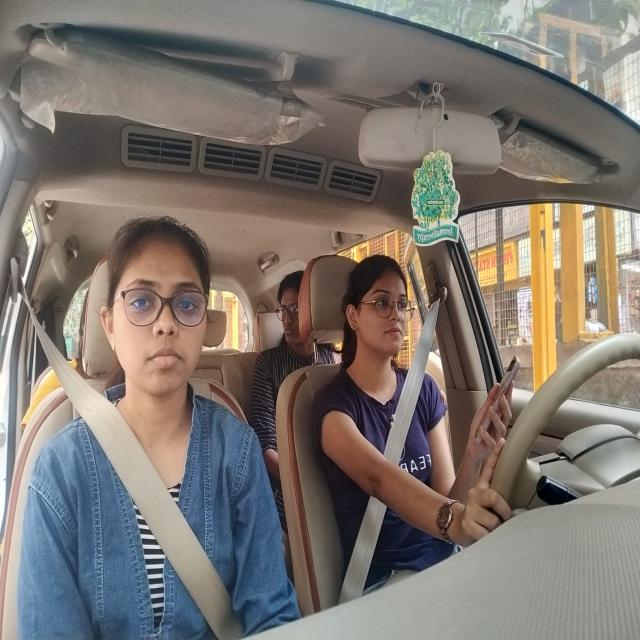mobile: (460, 327, 523, 472)
person: (103, 214, 219, 407), (346, 251, 424, 379), (269, 257, 314, 365)
